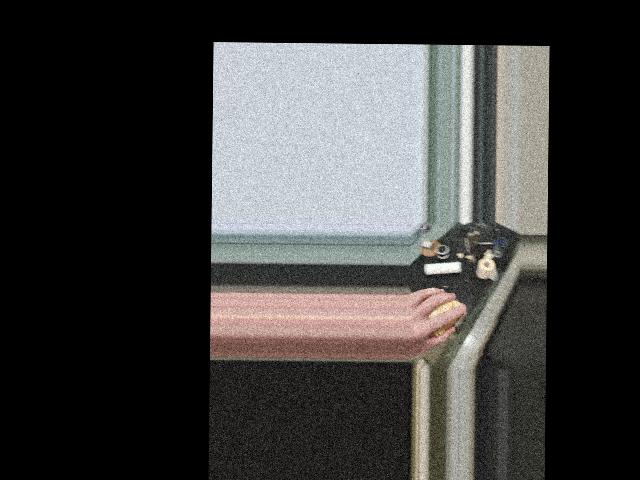onion: (420, 296, 464, 338)
